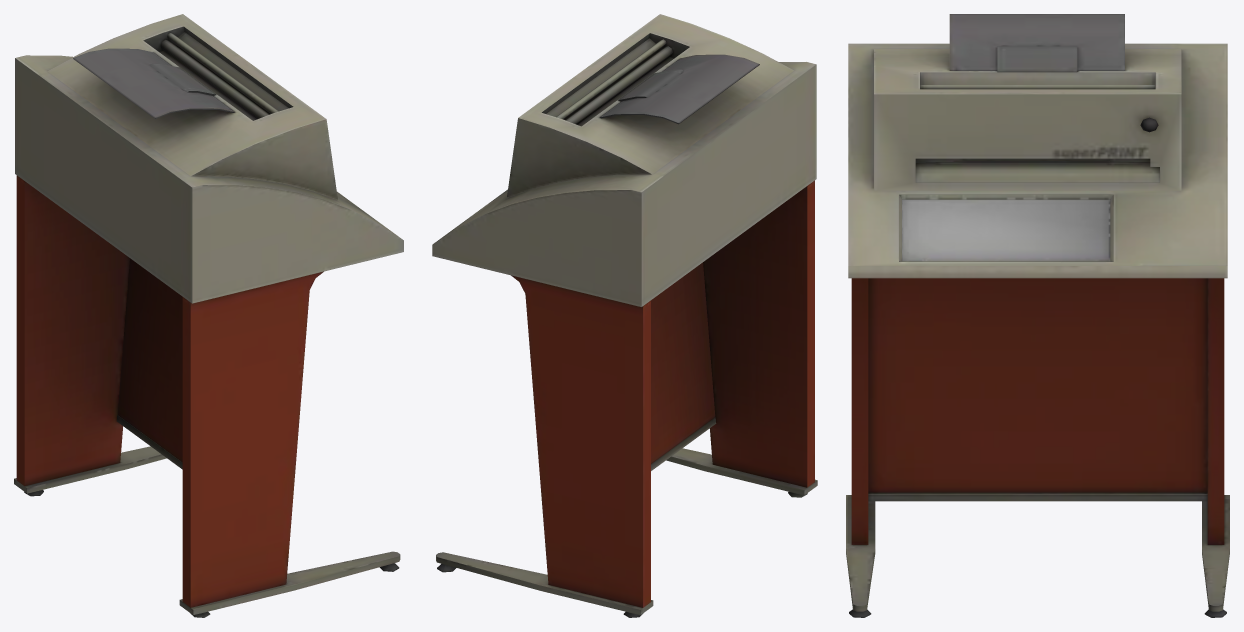
The picture shows the model from 3 angles, left to right: view 1: azimuth 30°, elevation 25°; view 2: azimuth 150°, elevation 25°; view 3: azimuth 270°, elevation 25°; orthographic projection. The views are drawn at different scales.
Parts seen in each view (by area): view 1: body0_model0_lod0_mesh0; view 2: body0_model0_lod0_mesh0; view 3: body0_model0_lod0_mesh0.
Part boxes in pixels (x1,y1,x2,y2): body0_model0_lod0_mesh0: [14, 14, 403, 617]; body0_model0_lod0_mesh0: [432, 14, 817, 617]; body0_model0_lod0_mesh0: [846, 14, 1229, 617].
Bounding box in the file's own units: 31.25 × 65.93 × 45.71.
1 material, 1 textured.
